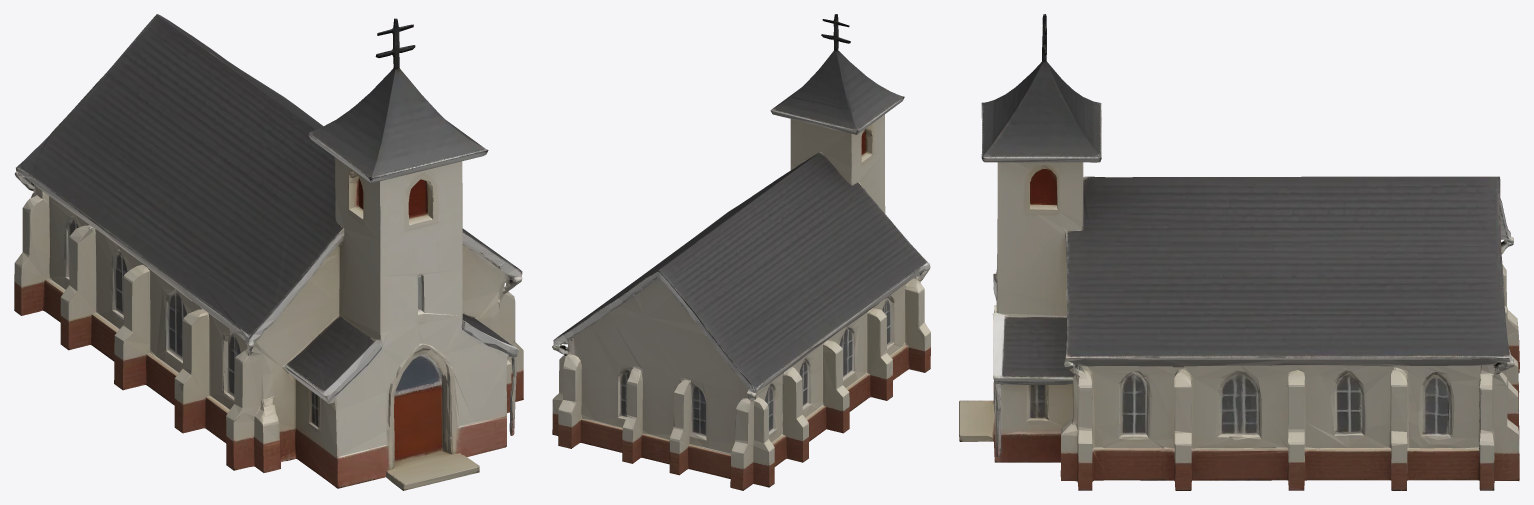
Rendered from lm_church.glb.
3 views of the same model, side by side, from view 1: azimuth 30°, elevation 25°; view 2: azimuth 150°, elevation 25°; view 3: azimuth 270°, elevation 25° (orthographic). The views are drawn at different scales.
Visible parts, largest first — view 1: geometry_0; view 2: geometry_0; view 3: geometry_0.
Part boxes in pixels (box(x1,y1,x2,y2)): geometry_0: box(14, 14, 523, 490); geometry_0: box(552, 14, 930, 490); geometry_0: box(959, 14, 1519, 490).
Bounding box in the file's own units: 0.9998 × 1.41 × 1.75.
1 material, 1 textured.
